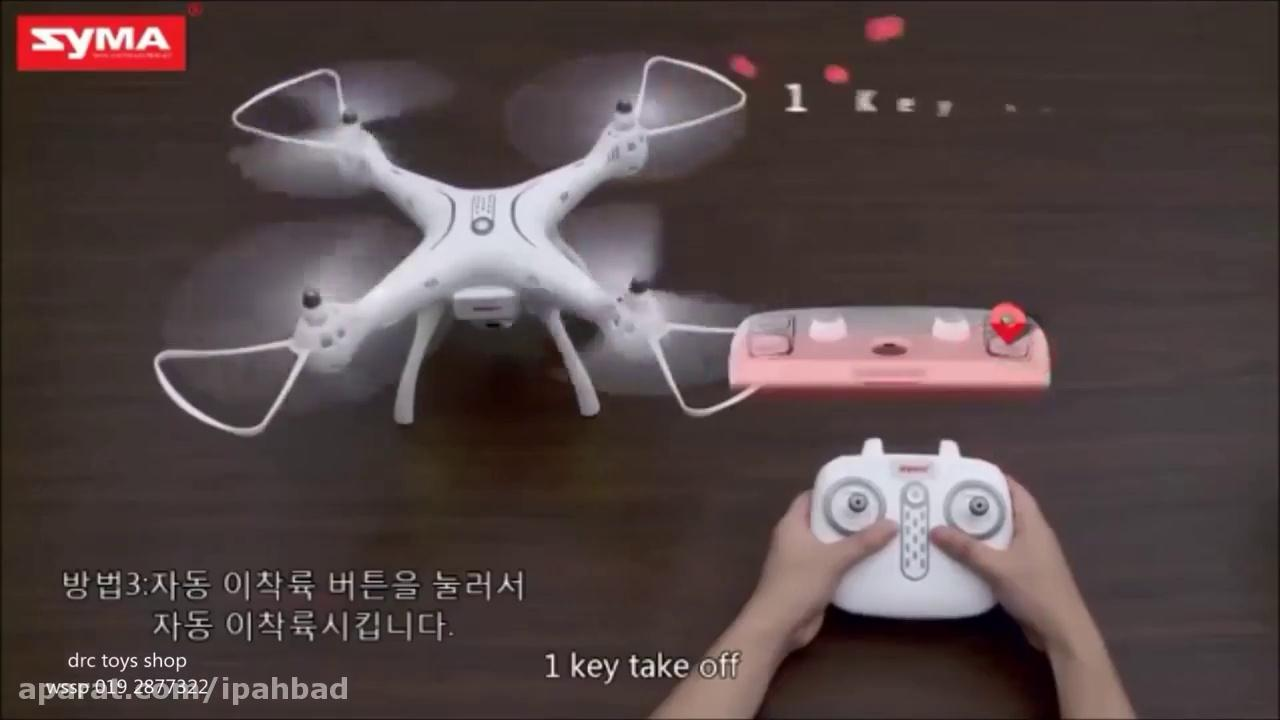drone: (184, 57, 767, 429)
